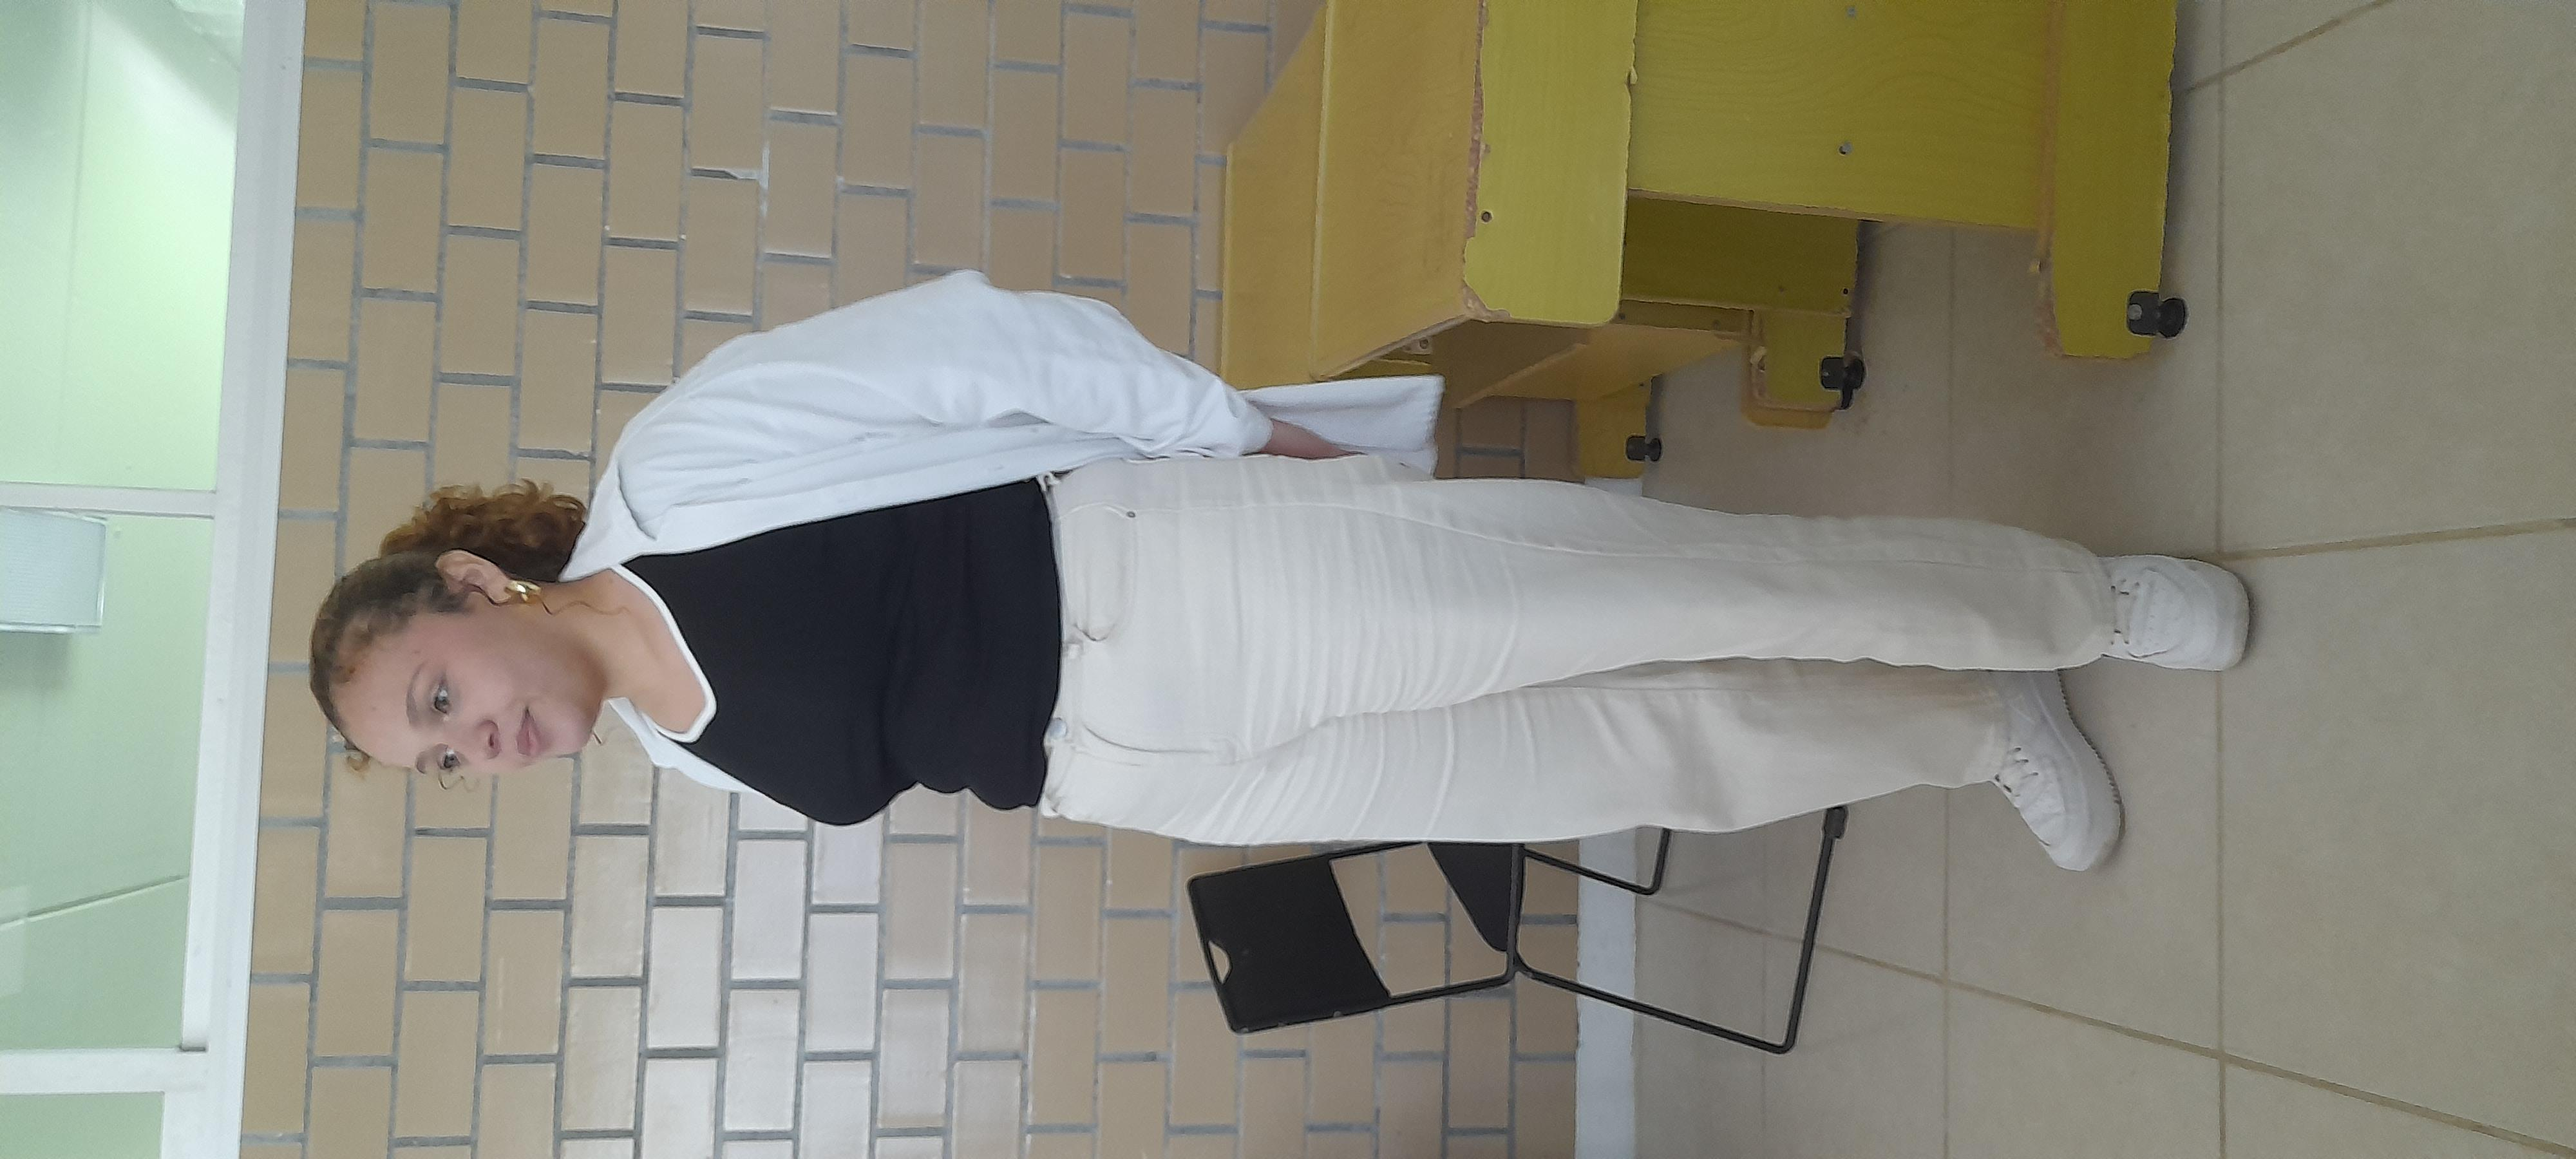Bata-Incorrecta: (401, 118, 2060, 1041)
